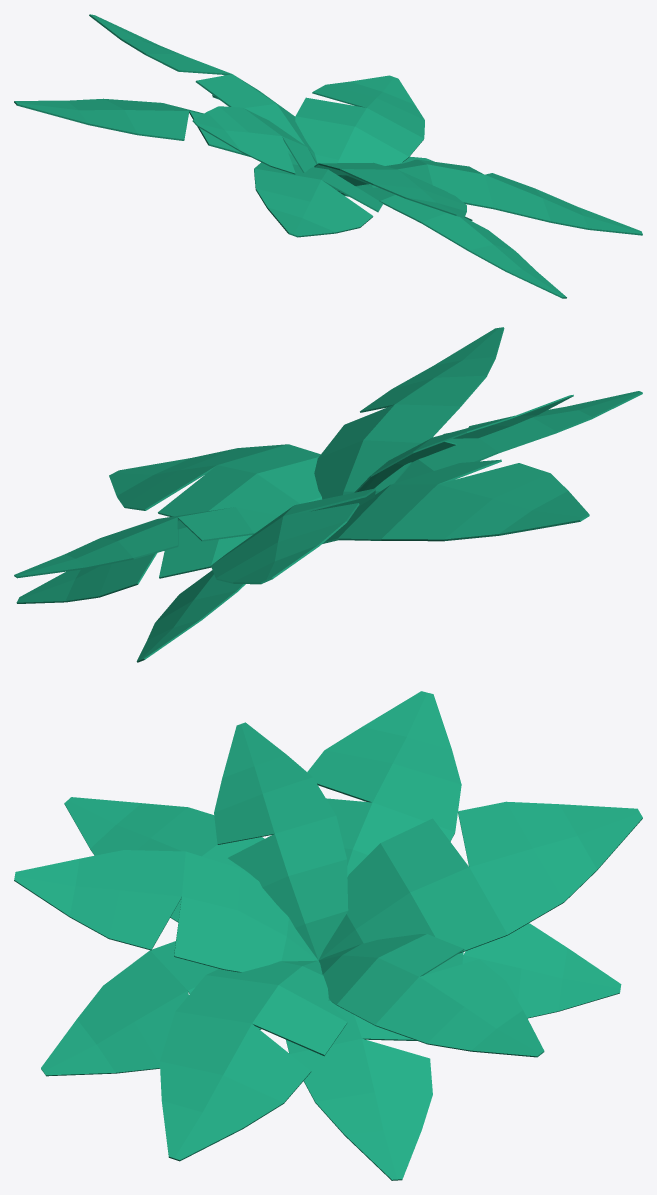
File: Bush.fbx
3 views of the same model, one above another, from view 1: azimuth 30°, elevation 25°; view 2: azimuth 150°, elevation 25°; view 3: azimuth 270°, elevation 25° (orthographic). The views are drawn at different scales.
Parts seen in each view (by area): view 1: Leaf.026, Leaf.024, Leaf.025, Leaf.023, Leaf.020, Leaf.027, Leaf.028, Leaf.029; view 2: Leaf.023, Leaf.029, Leaf.025, Leaf.027, Leaf.026, Leaf.021, Leaf.024, Leaf.022, Leaf.028; view 3: Leaf.027, Leaf.025, Leaf.029, Leaf.028, Leaf.026, Leaf.023, Leaf.021, Leaf.020, Leaf.022, Leaf.024.
Boxes of the visible parts, x1,y1,x2,y2 form: Leaf.026: (295, 75, 424, 165); Leaf.024: (254, 162, 382, 237); Leaf.025: (340, 159, 642, 235); Leaf.023: (14, 98, 297, 164); Leaf.020: (336, 185, 566, 298); Leaf.027: (89, 14, 317, 162); Leaf.028: (192, 106, 317, 174); Leaf.029: (314, 162, 466, 217); Leaf.023: (322, 459, 589, 543); Leaf.029: (314, 327, 504, 499); Leaf.025: (109, 444, 321, 516); Leaf.027: (211, 488, 375, 584); Leaf.026: (14, 507, 279, 578); Leaf.021: (16, 519, 252, 603); Leaf.024: (395, 391, 642, 482); Leaf.022: (136, 570, 245, 662); Leaf.028: (354, 394, 573, 492); Leaf.027: (319, 801, 642, 959); Leaf.025: (159, 960, 347, 1161); Leaf.029: (14, 850, 318, 972); Leaf.028: (214, 722, 348, 960); Leaf.026: (318, 934, 544, 1057); Leaf.023: (307, 691, 461, 876); Leaf.021: (286, 972, 432, 1180); Leaf.020: (41, 941, 261, 1076); Leaf.022: (424, 923, 621, 1018); Leaf.024: (64, 797, 264, 922).
Bounding box in the file's own units: 1.44 × 0.59 × 1.38.
